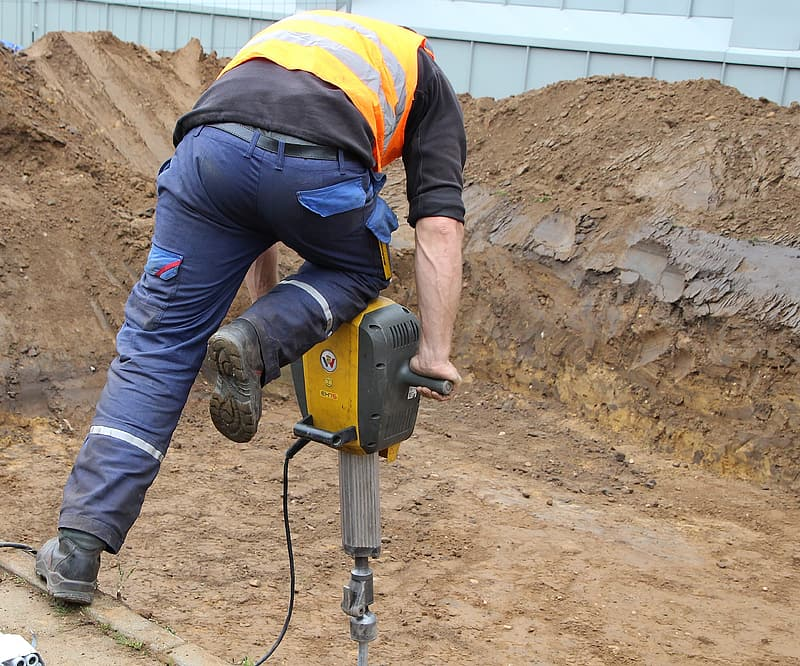Person: (23, 9, 468, 603)
Vest: (218, 6, 468, 181)
